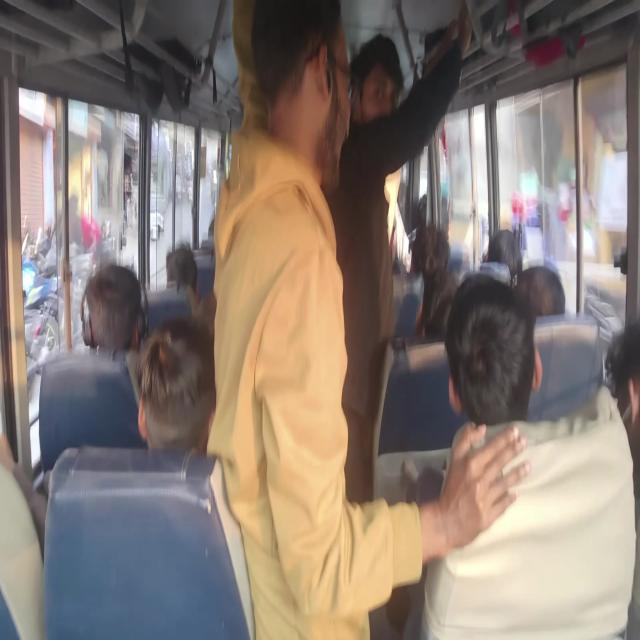person: (262, 15, 390, 175), (442, 339, 584, 453), (359, 44, 439, 164), (516, 257, 604, 336), (124, 337, 192, 435), (67, 279, 171, 341), (0, 428, 28, 530), (609, 344, 640, 432), (422, 220, 468, 274), (172, 235, 213, 289), (419, 288, 471, 329), (478, 226, 524, 272)
